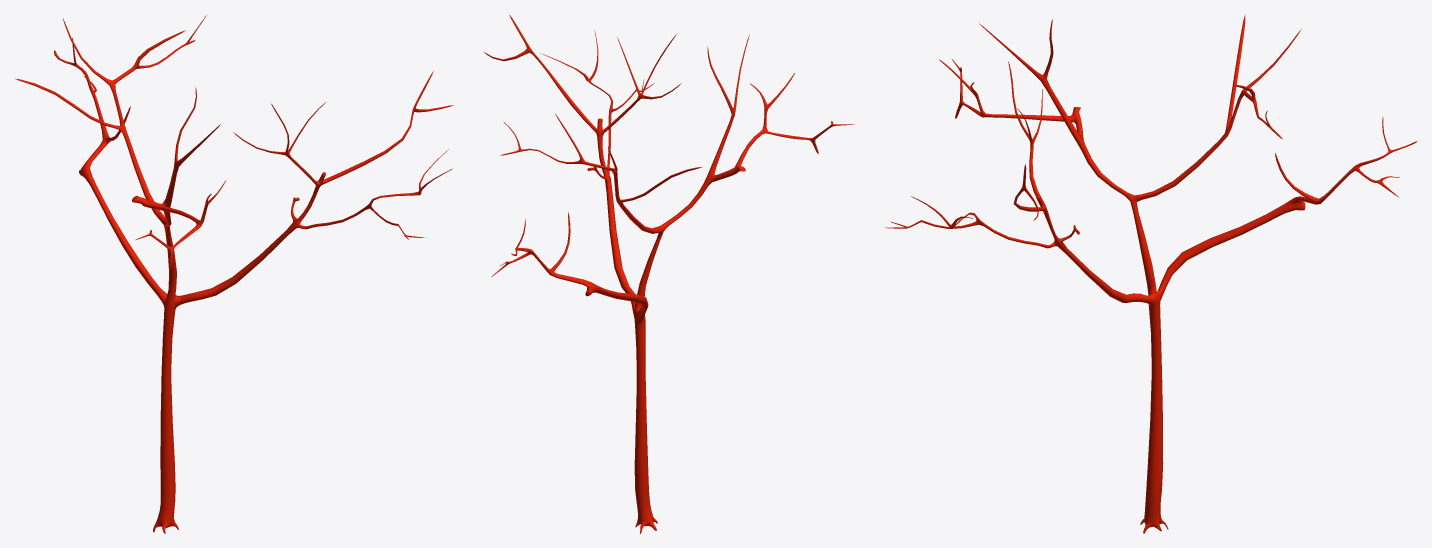
File: Deadtree09.fbx
3 views of the same model, side by side, from view 1: azimuth 30°, elevation 25°; view 2: azimuth 150°, elevation 25°; view 3: azimuth 270°, elevation 25° (orthographic). The views are drawn at different scales.
Parts seen in each view (by area): view 1: tree_LOD0; view 2: tree_LOD0; view 3: tree_LOD0.
Part boxes in pixels (x1,y1,x2,y2): tree_LOD0: (15,15,453,533); tree_LOD0: (484,14,854,533); tree_LOD0: (885,15,1417,533).
Size of what is drawn, in the model's own units: 4661 by 6012 by 5774.
